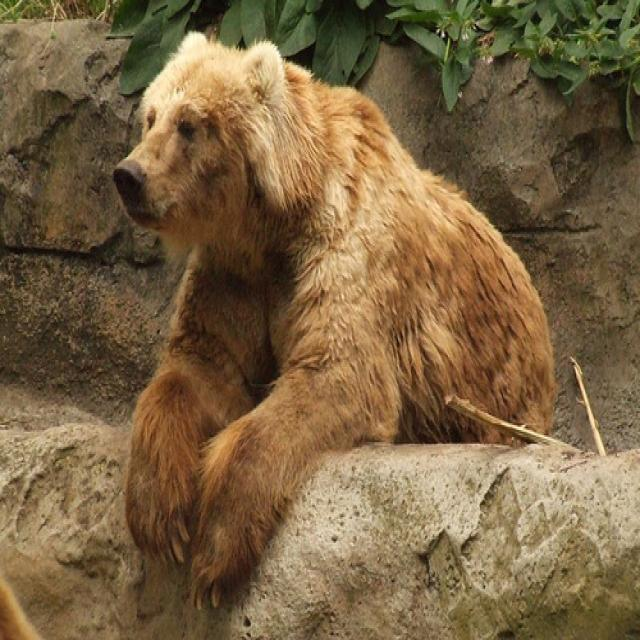Bear: (104, 29, 556, 609)
